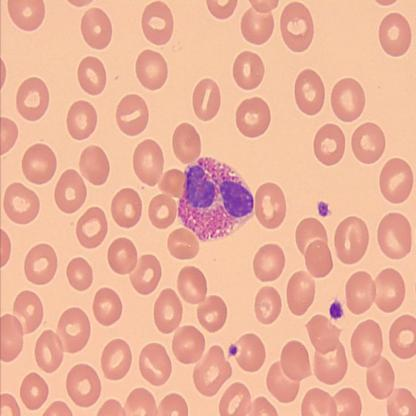Eosinophil: (178, 157, 253, 242)
